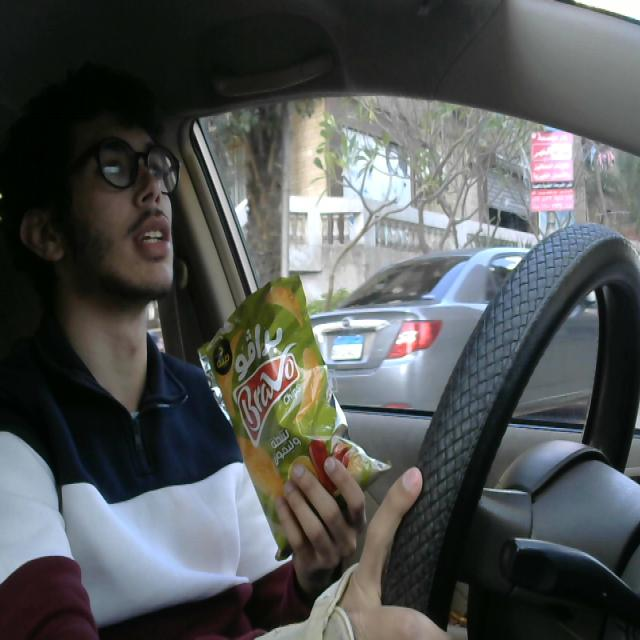eating: (199, 267, 398, 549)
